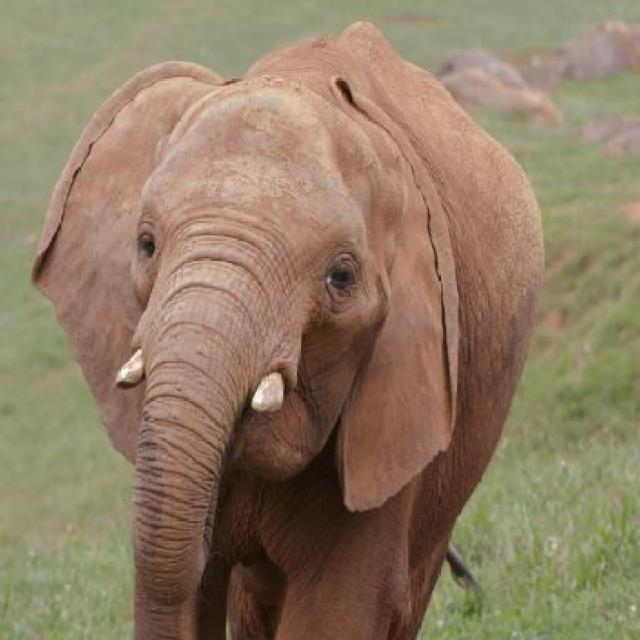Elephant: (29, 14, 551, 638)
